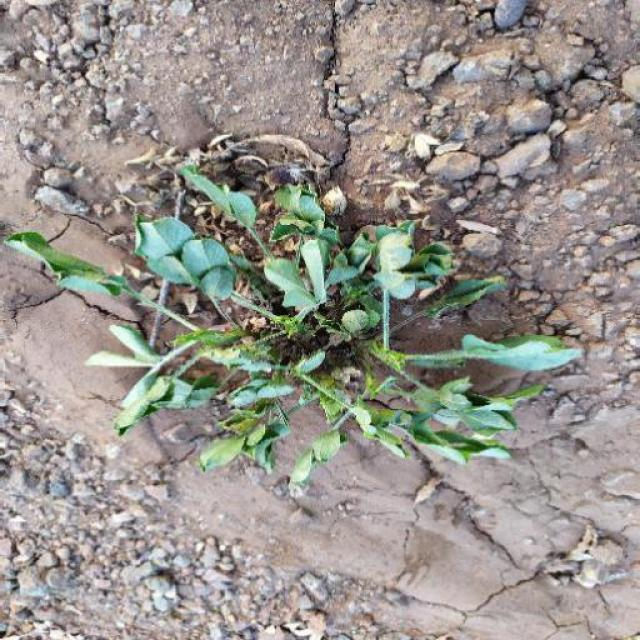weed: (102, 146, 588, 489)
